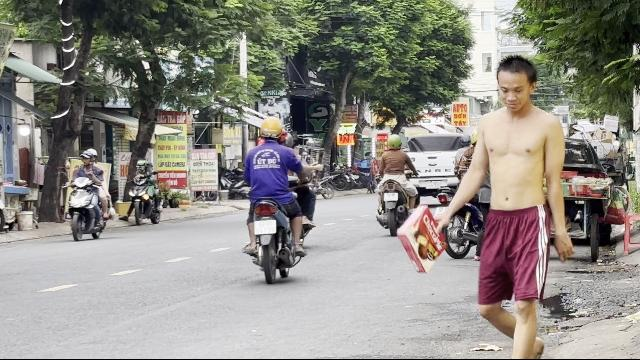helmet: (259, 116, 283, 142), (81, 147, 97, 165), (385, 133, 401, 149)
licenseplate: (254, 220, 276, 236), (384, 193, 398, 201)
motorcyclist: (238, 116, 316, 280), (64, 147, 114, 241), (372, 133, 418, 234)
